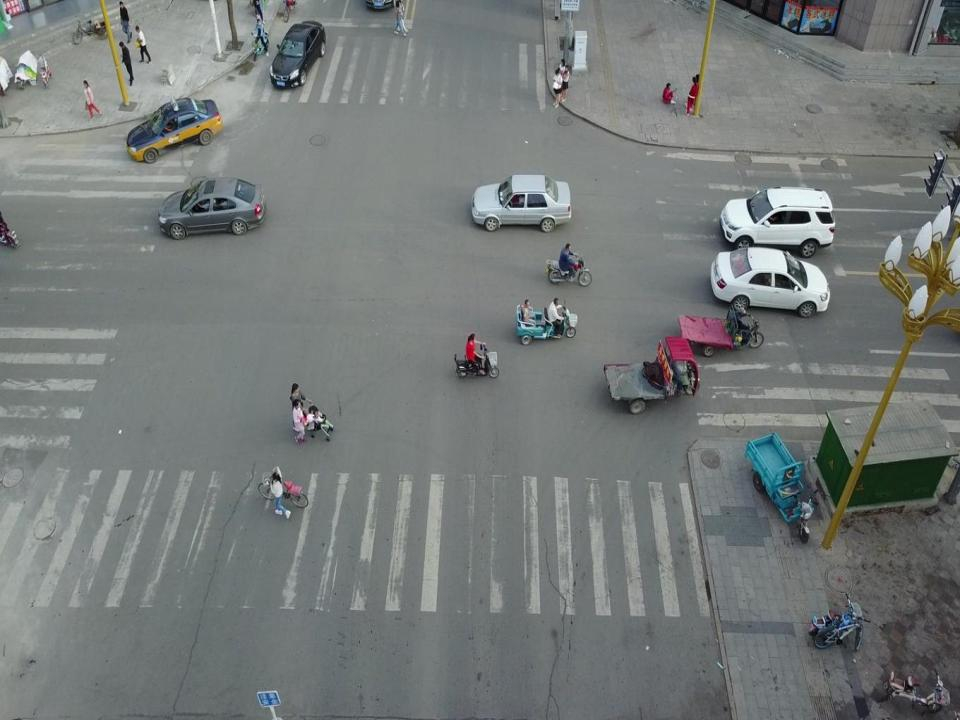car: (721, 185, 833, 256), (712, 248, 828, 314), (159, 175, 264, 237), (126, 101, 222, 163), (472, 173, 572, 229), (270, 20, 326, 90)
